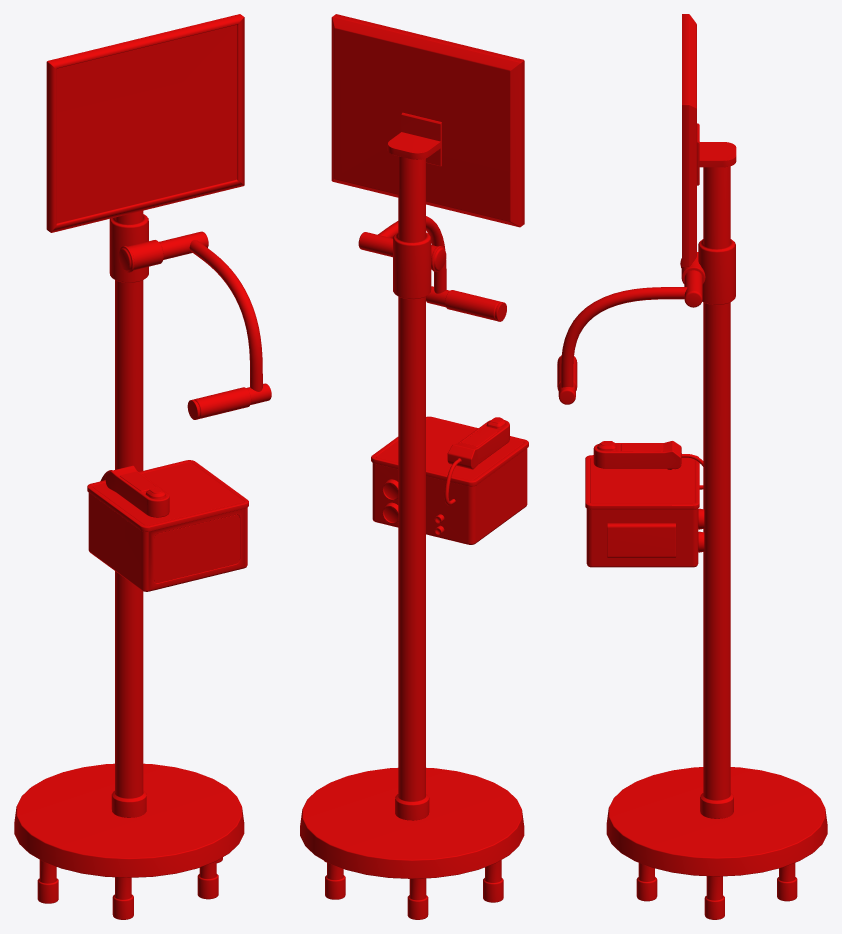
The model's file is Equipment_35.fbx.
3 views of the same model, side by side, from view 1: azimuth 30°, elevation 25°; view 2: azimuth 150°, elevation 25°; view 3: azimuth 270°, elevation 25° (orthographic). The views are drawn at different scales.
Parts seen in each view (by area): view 1: L18:pCylinder90; view 2: L18:pCylinder90; view 3: L18:pCylinder90.
Part boxes in pixels (box(x1,y1,x2,y2)): L18:pCylinder90: box(14, 14, 271, 919); L18:pCylinder90: box(300, 14, 528, 919); L18:pCylinder90: box(557, 14, 827, 919).
Size of the model in its own units: 44.93 by 183 by 54.62.
